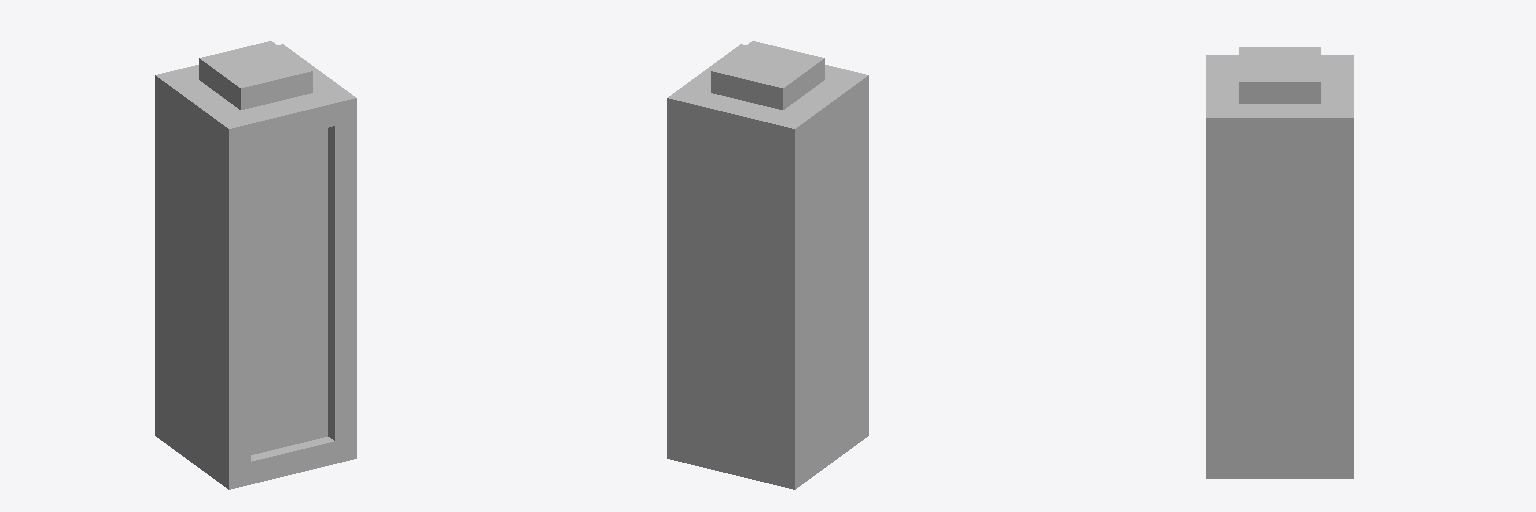
The model's file is battery.obj.
3 views of the same model, side by side, from view 1: azimuth 30°, elevation 25°; view 2: azimuth 150°, elevation 25°; view 3: azimuth 270°, elevation 25° (orthographic).
Visible parts, largest first — view 1: Cube; view 2: Cube; view 3: Cube.
Part boxes in pixels (x1,y1,x2,y2): Cube: (155, 41, 356, 489); Cube: (667, 41, 868, 489); Cube: (1206, 47, 1353, 478).
Size of the model in its own units: 0.2946 by 0.8429 by 0.2946.